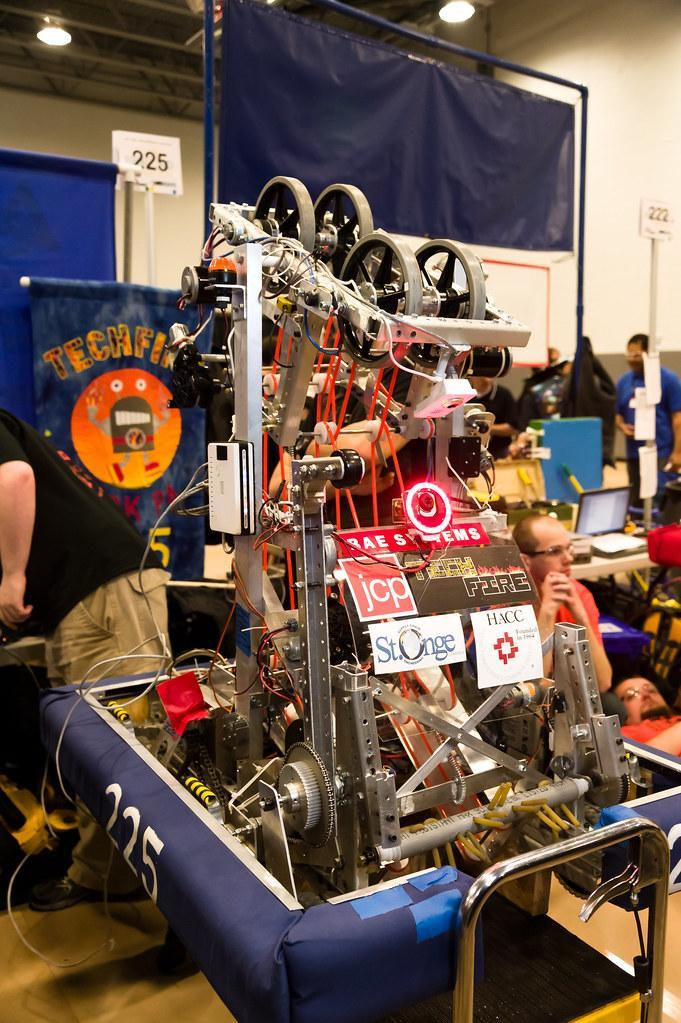robot: (44, 170, 681, 1023)
